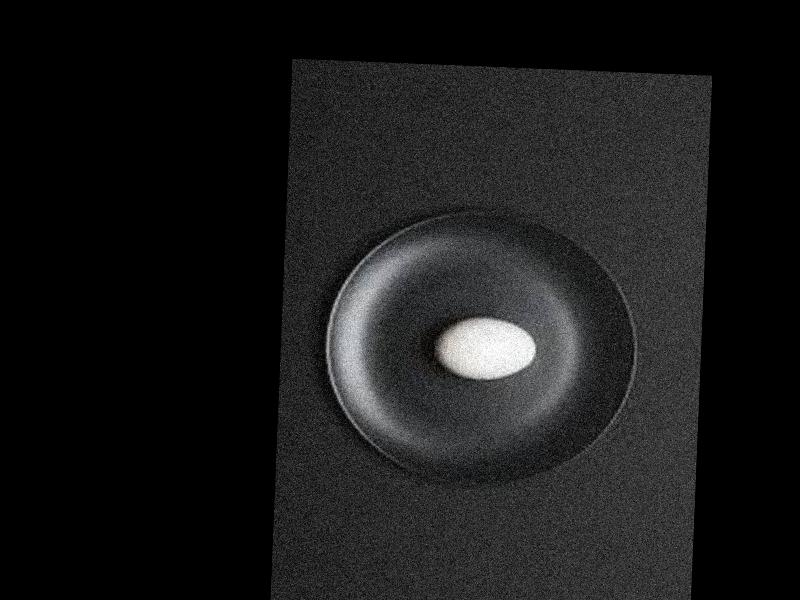Eggs: (435, 314, 536, 381)
